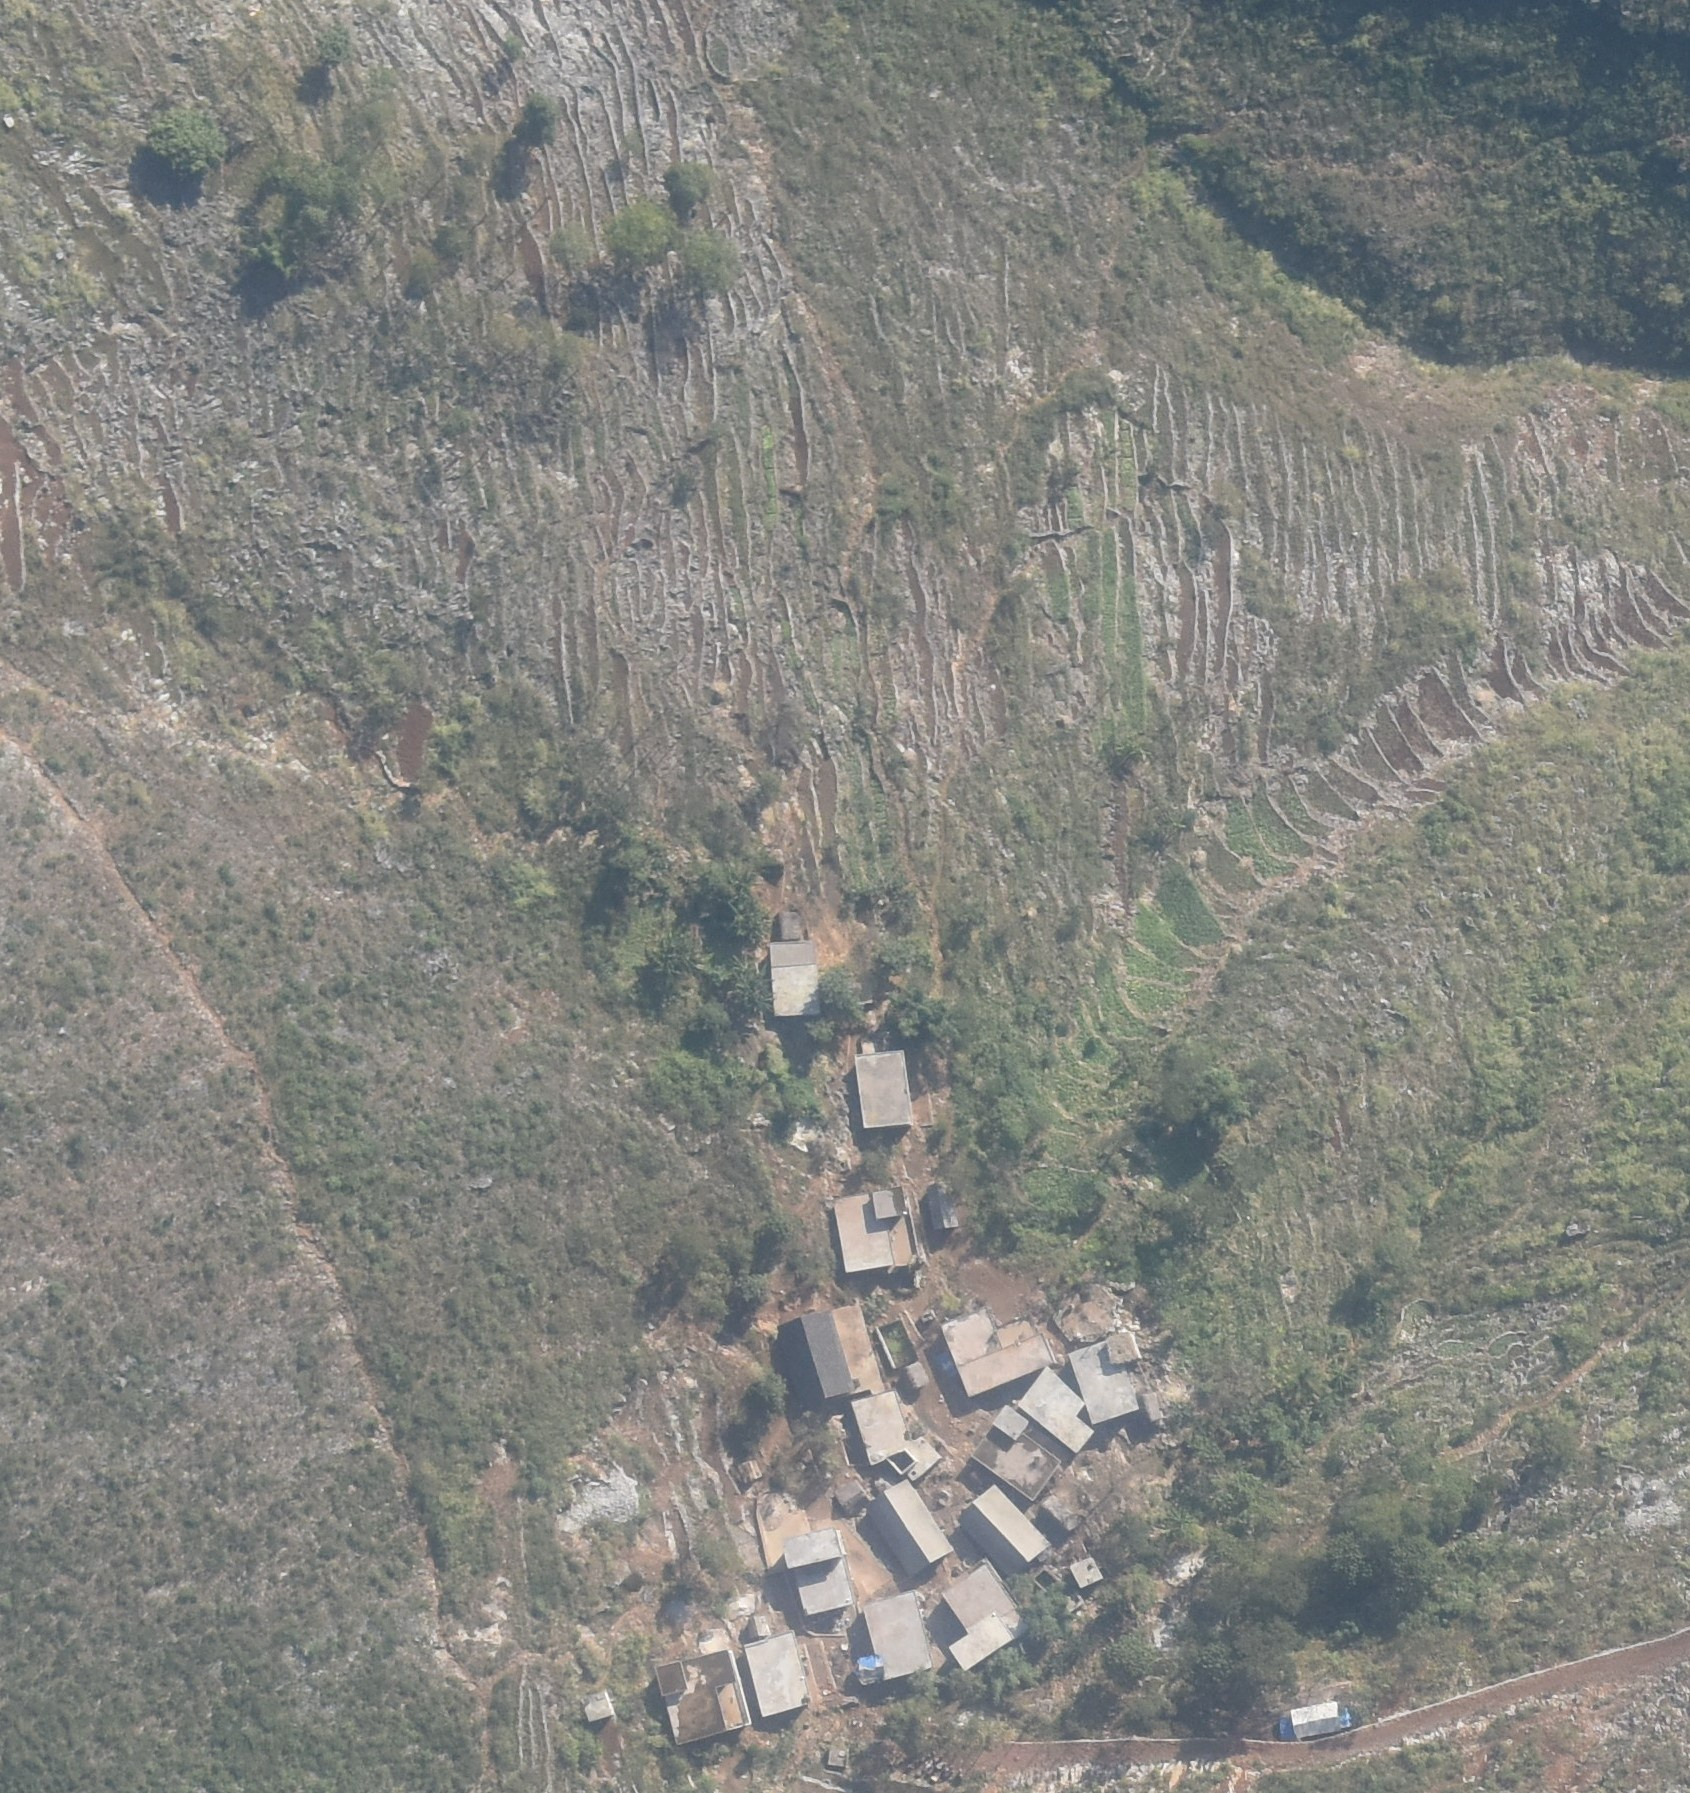building: (939, 1309, 1055, 1396), (654, 1648, 753, 1745), (942, 1561, 1028, 1669), (958, 1482, 1050, 1575), (970, 1404, 1059, 1501), (866, 1480, 955, 1572), (851, 1390, 942, 1479), (832, 1186, 915, 1274), (743, 1612, 808, 1717), (1069, 1332, 1140, 1426), (1020, 1367, 1094, 1455), (862, 1591, 934, 1682), (781, 1529, 851, 1612), (801, 1309, 851, 1398), (858, 1051, 913, 1128), (769, 940, 820, 1016), (1290, 1701, 1341, 1736), (928, 1182, 958, 1228), (1069, 1556, 1105, 1587), (581, 1691, 616, 1722), (835, 1482, 867, 1513), (780, 912, 801, 939), (828, 1747, 848, 1766)
landslide: (399, 704, 434, 785)
